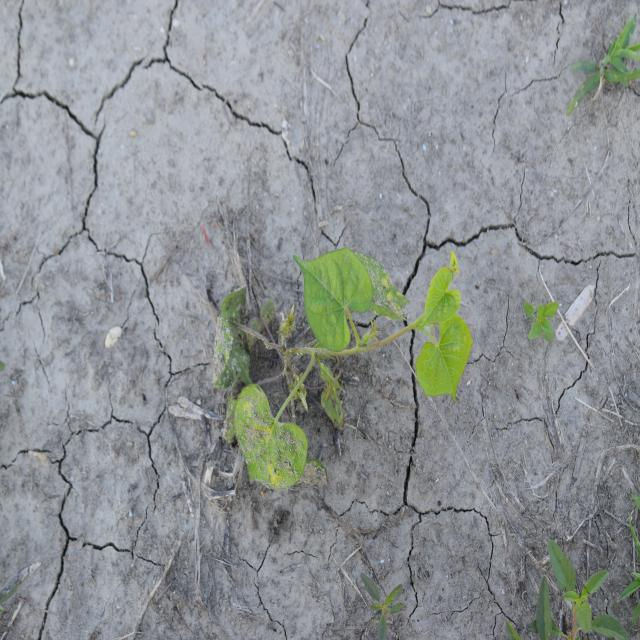MorningGlory: (210, 245, 474, 492)
Waterhemp: (508, 536, 639, 637), (359, 571, 408, 638)
